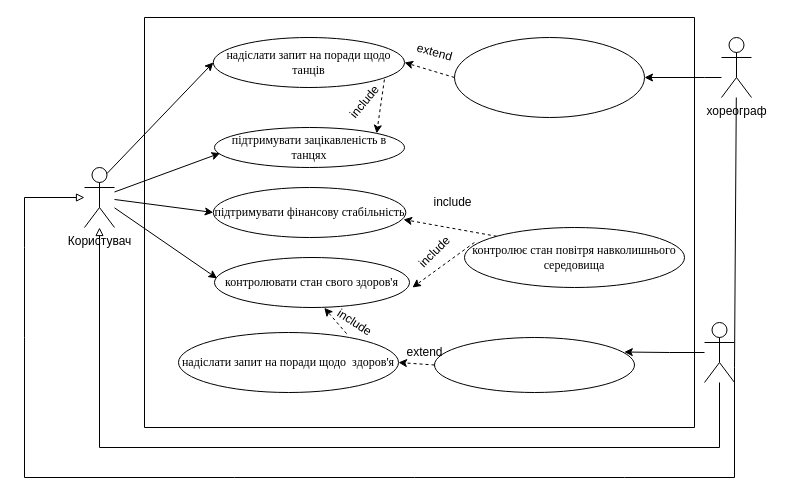
Some shapes in this 799 by 503 pixel diagram are drawn without their labels. Each missing label, with the centre of its shape:
медичний консультант: pixel 719 352
отримати запит на пораду щодо здоров'я та дати відповідь: pixel 534 364
отримати запит на пораду щодо танців та дати відповідь: pixel 549 77
